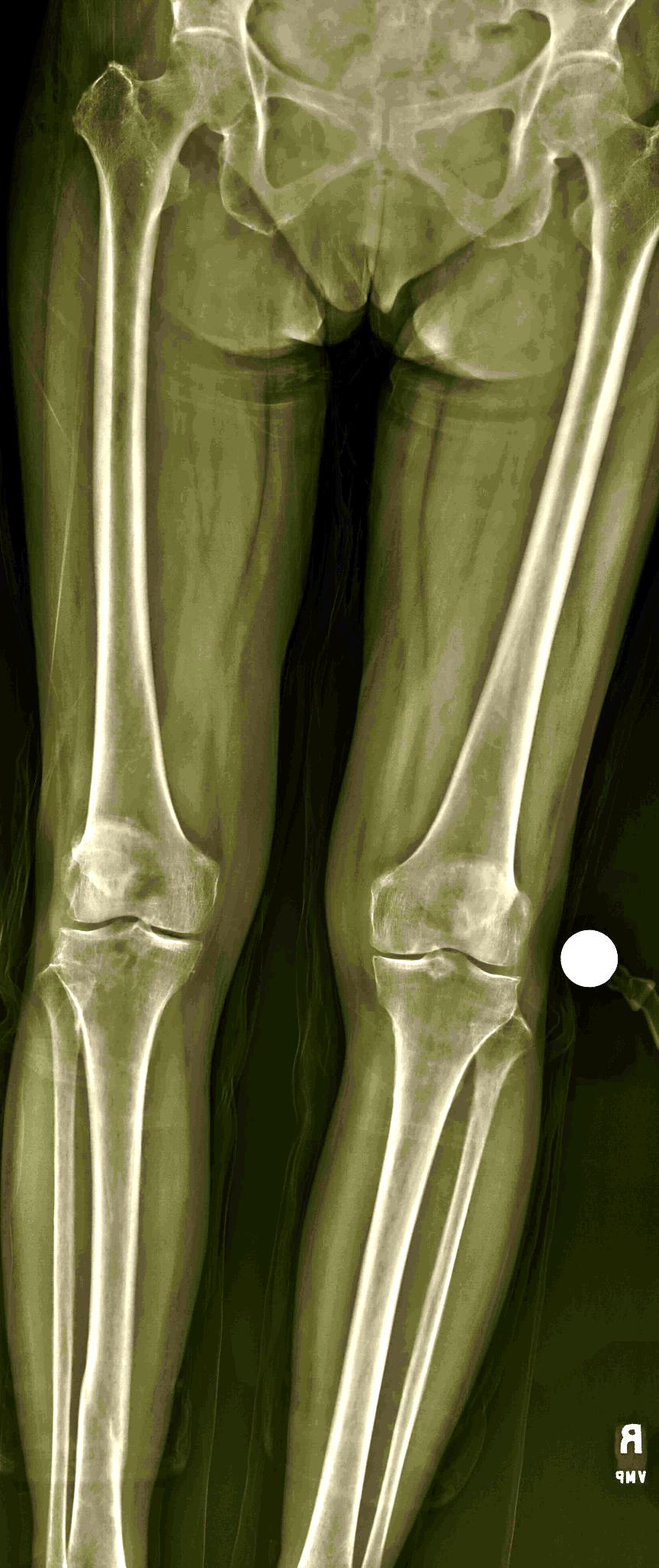Leg Fibula: (362, 1013, 530, 1568), (40, 968, 80, 1568)
Leg Tibia: (295, 951, 520, 1568), (58, 924, 199, 1568)
femur: (372, 51, 659, 968), (65, 30, 263, 936)
